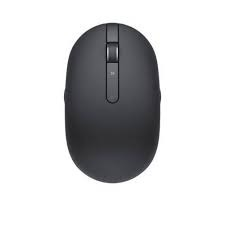mouse: (62, 21, 166, 180)
